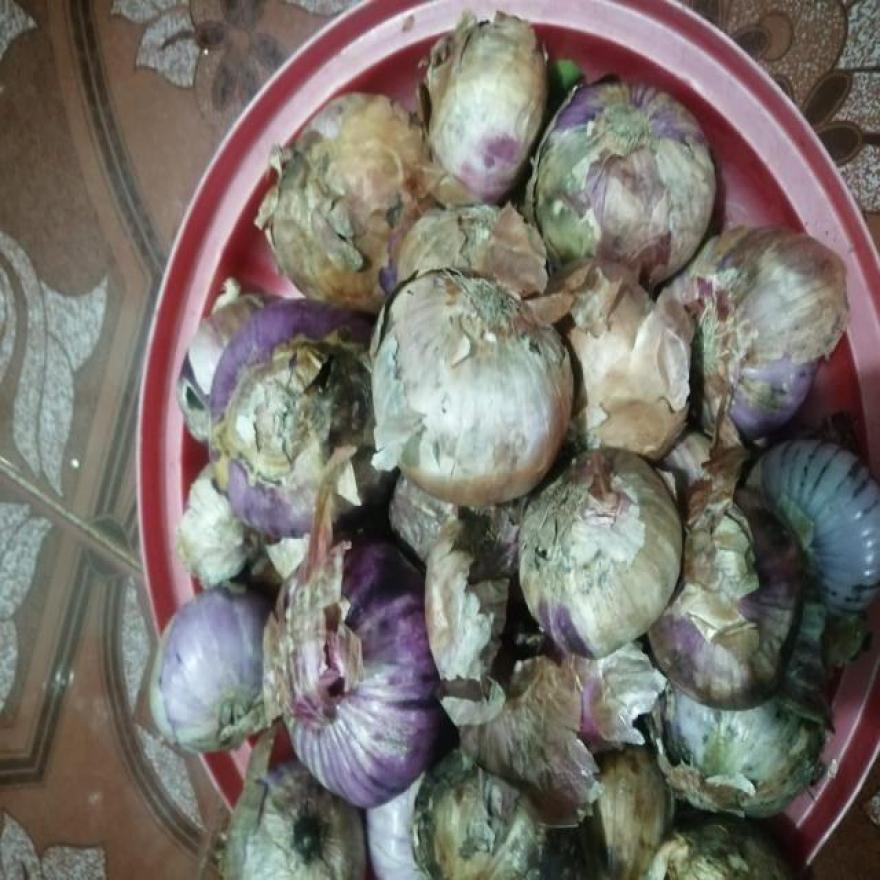Rotten: (281, 342, 371, 474), (346, 546, 441, 667), (745, 586, 825, 713)
